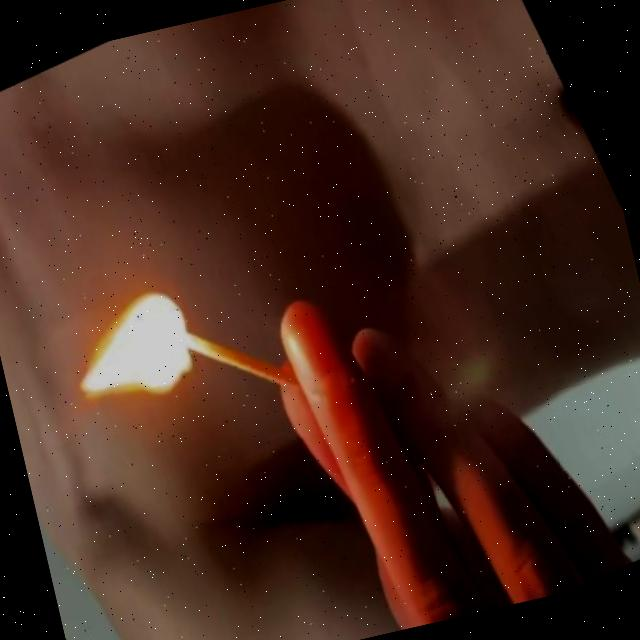fire: (33, 266, 226, 438)
